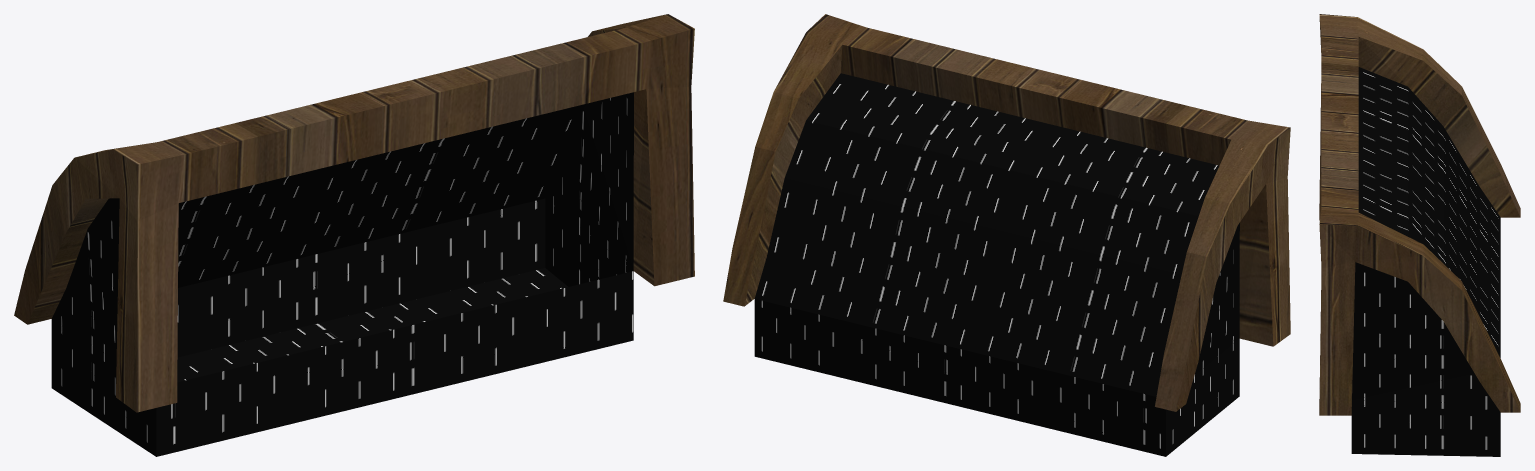
The model's file is Goal.gltf.
3 views of the same model, side by side, from view 1: azimuth 30°, elevation 25°; view 2: azimuth 150°, elevation 25°; view 3: azimuth 270°, elevation 25° (orthographic). The views are drawn at different scales.
Parts seen in each view (by area): view 1: goal_glb; view 2: goal_glb; view 3: goal_glb.
Boxes of the visible parts, <box> form: goal_glb: <box>14,14,694,456</box>; goal_glb: <box>723,14,1290,456</box>; goal_glb: <box>1319,14,1520,456</box>.
Size of the model in its own units: 2.45 by 1.33 by 0.9915.
Materials: 2 (2 with a texture image).
